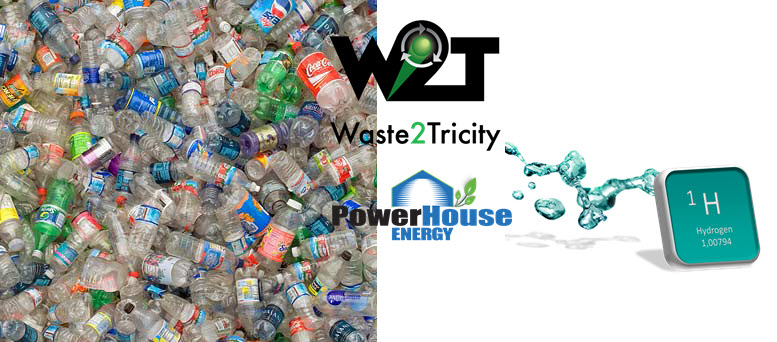plastic_bottle: (269, 242, 271, 247)
